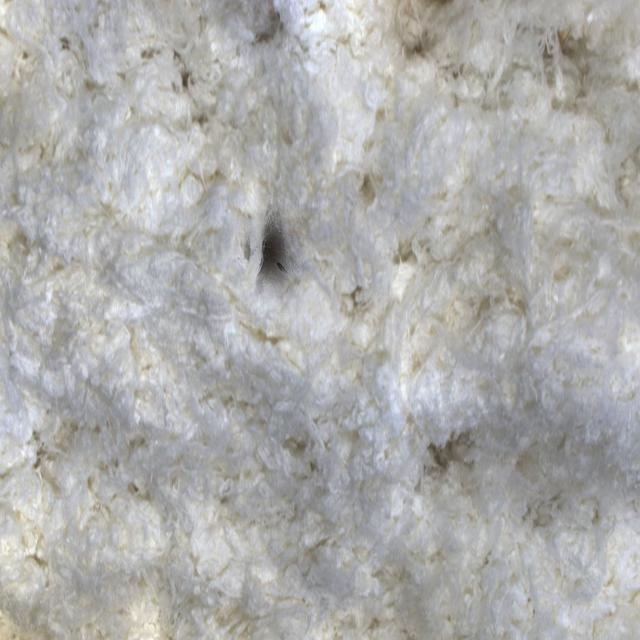dust: (227, 186, 329, 313)
